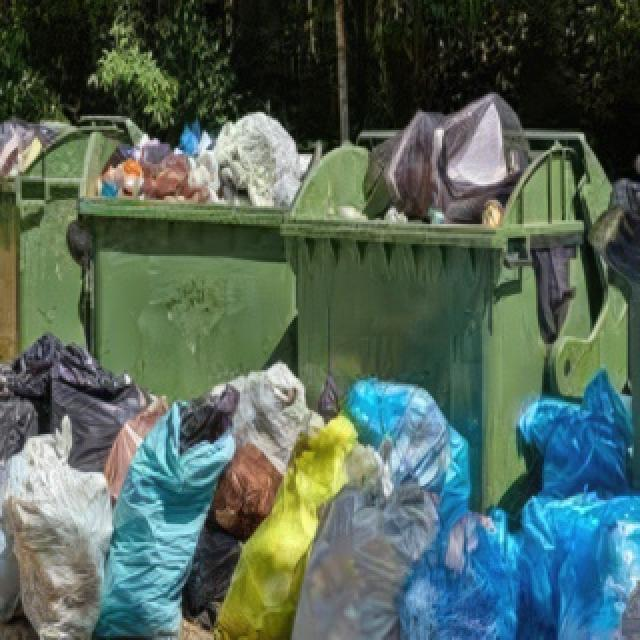Trashbag: (0, 327, 168, 476)
